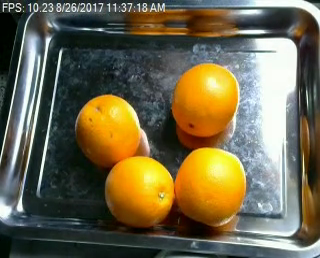Orange: (175, 146, 246, 224), (168, 61, 239, 137), (102, 155, 173, 227), (73, 93, 141, 165)
